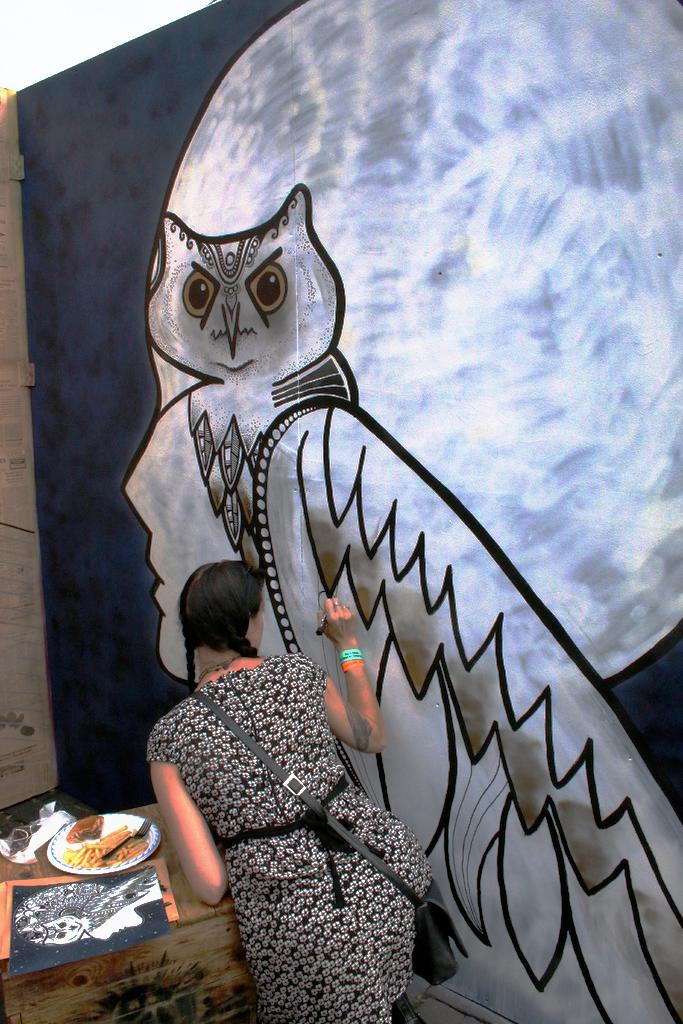Owl: (148, 176, 682, 1023)
